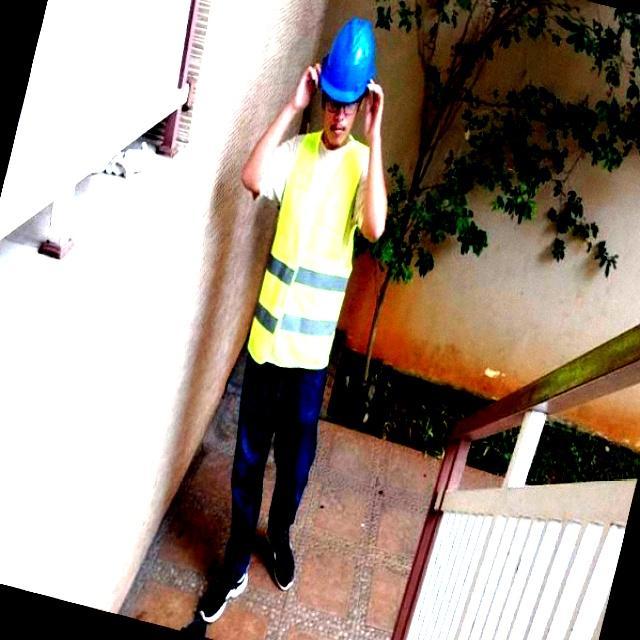helmet: (312, 16, 382, 108)
safety_vest: (248, 130, 372, 391)
